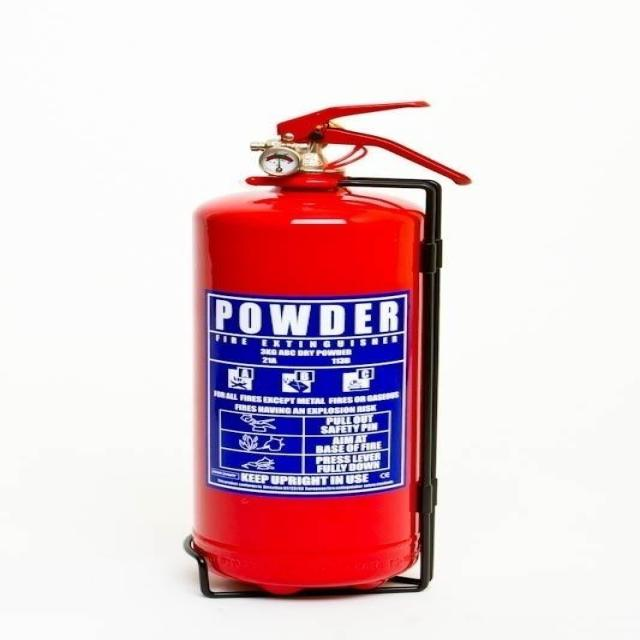fire_extinguisher: (178, 96, 478, 600)
